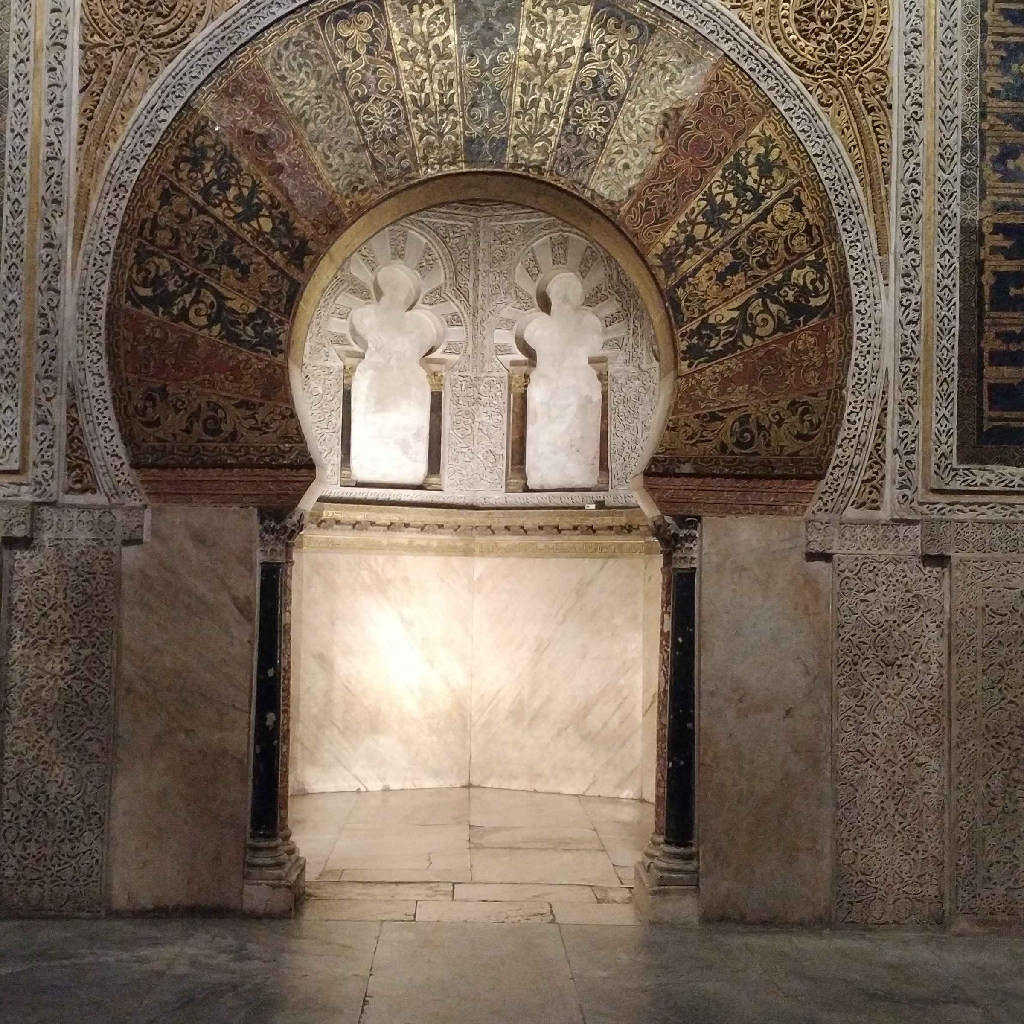arco-herradura: (232, 133, 721, 556)
